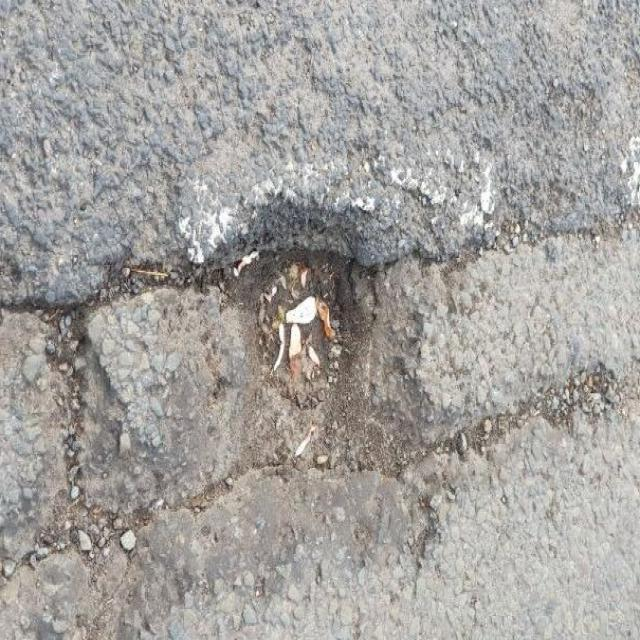pothole: (181, 178, 453, 501)
